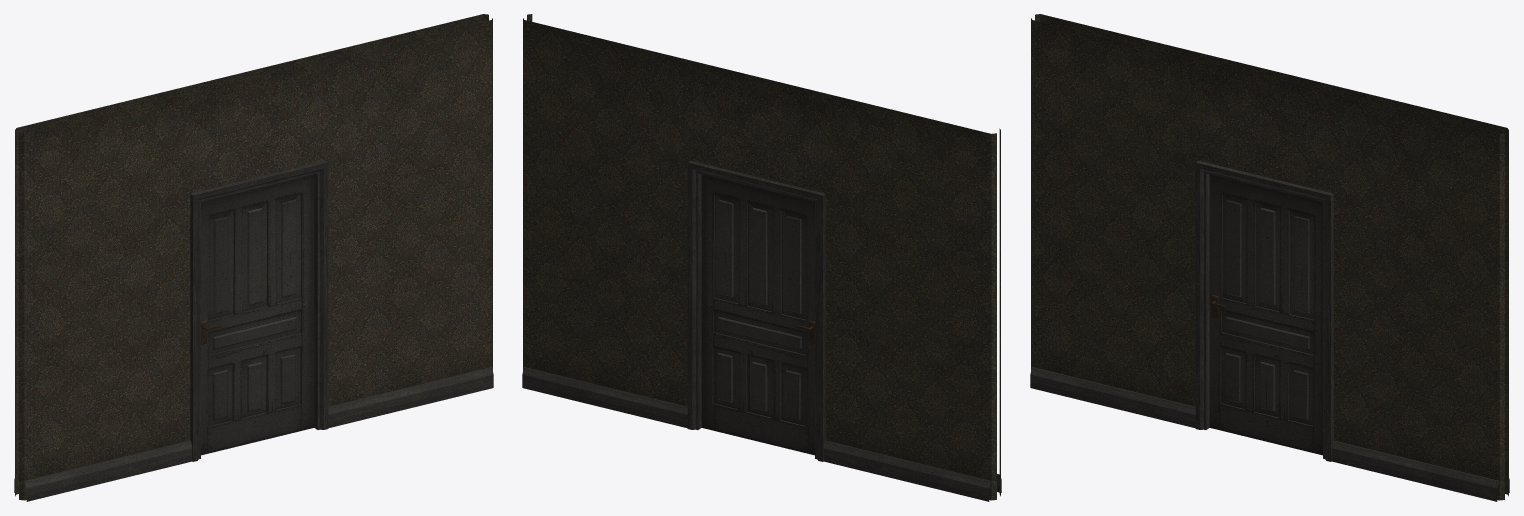
Rendered from doorway_2_1.glb.
The picture shows the model from 3 angles, left to right: view 1: azimuth 30°, elevation 25°; view 2: azimuth 150°, elevation 25°; view 3: azimuth 330°, elevation 25°; orthographic projection.
Parts seen in each view (by area): view 1: doorway_2_1, door_1; view 2: doorway_2_1, door_1; view 3: doorway_2_1, door_1.
Part boxes in pixels (x1,y1,x2,y2): doorway_2_1: (14,14,493,501); door_1: (201,174,314,455); doorway_2_1: (522,14,1001,501); door_1: (701,174,814,455); doorway_2_1: (1030,14,1509,501); door_1: (1209,174,1322,455).
Bounding box in the file's own units: 4.06 × 3 × 0.2.
Materials: 4 (4 with a texture image).
